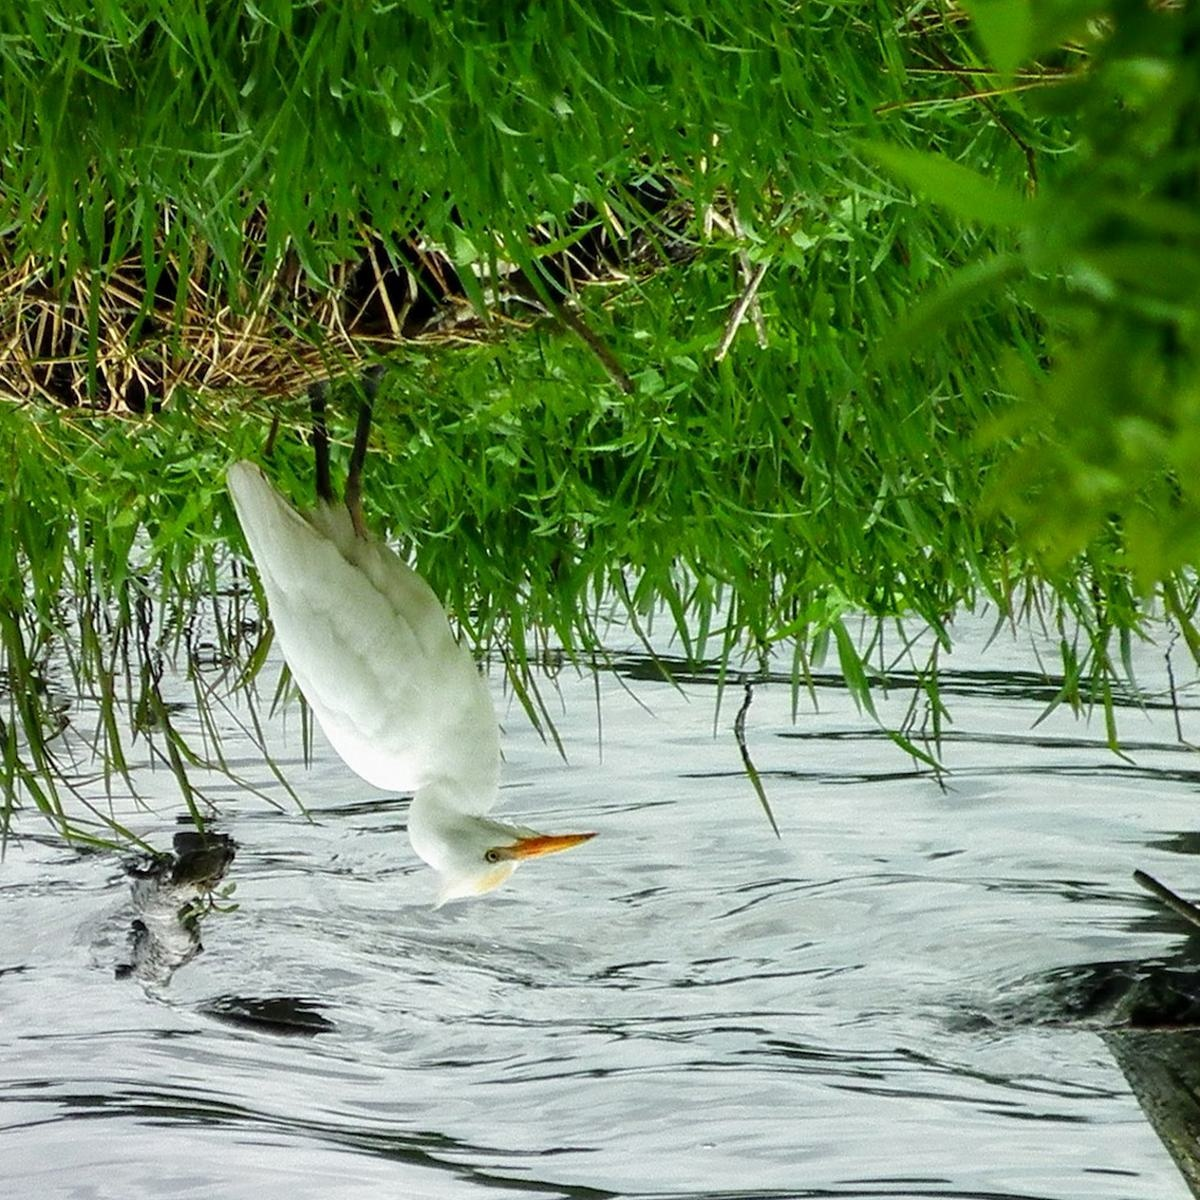egret: (208, 360, 634, 920)
